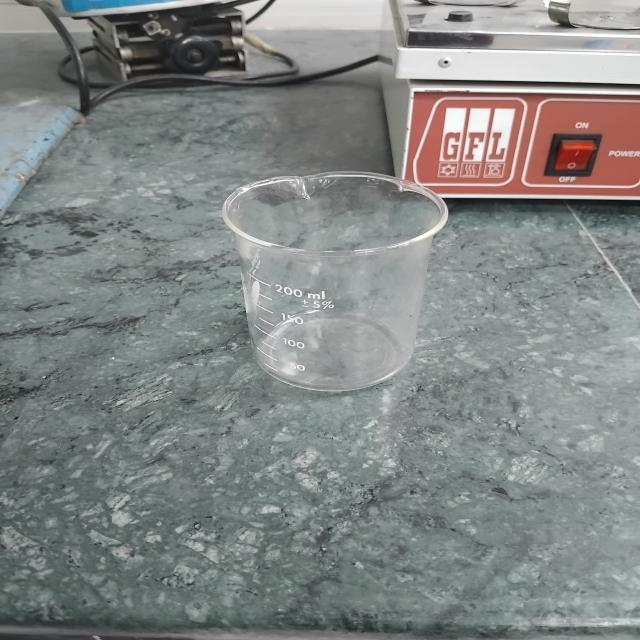Beaker: (184, 144, 477, 408)
